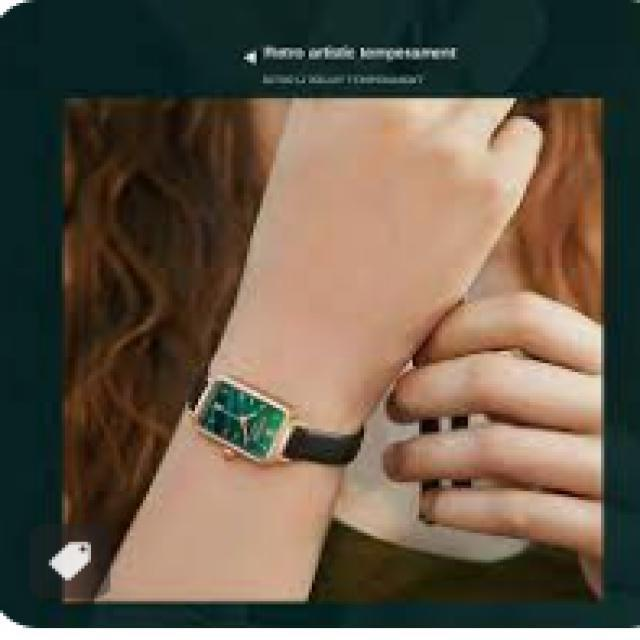Watch: (183, 367, 367, 483)
